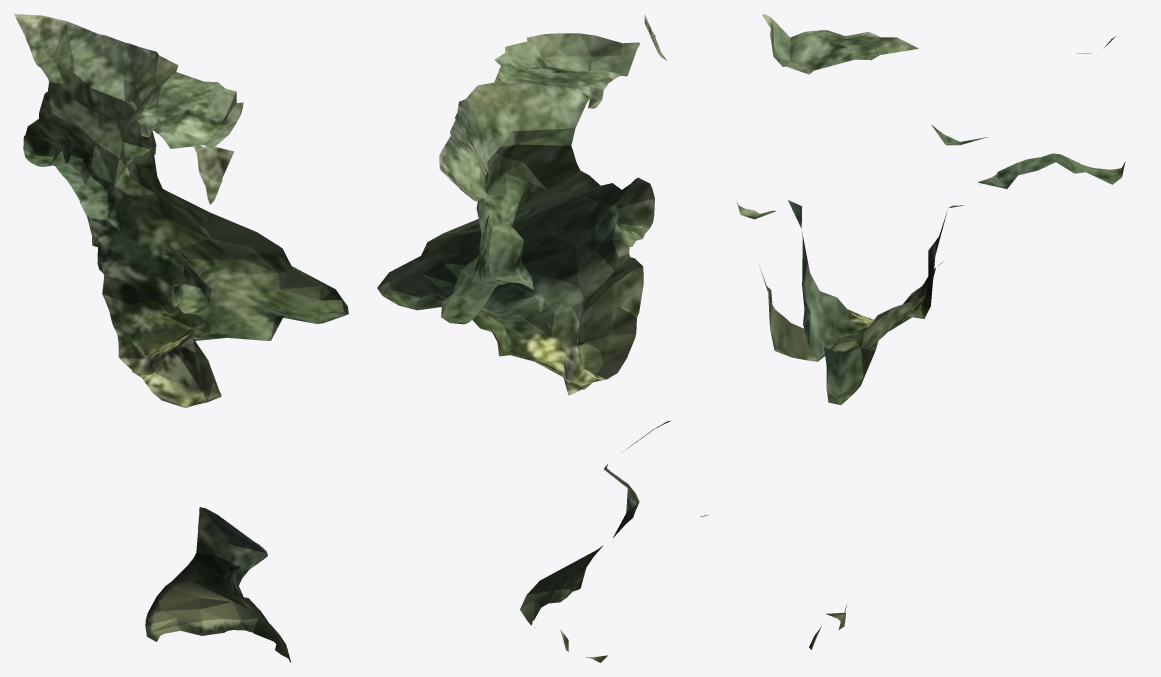
3 views of the same model, side by side, from view 1: azimuth 30°, elevation 25°; view 2: azimuth 150°, elevation 25°; view 3: azimuth 270°, elevation 25° (orthographic). The views are drawn at different scales.
Size of the model in its own units: 4.64 by 11.8 by 7.97.
Materials: 2 (2 with a texture image).
